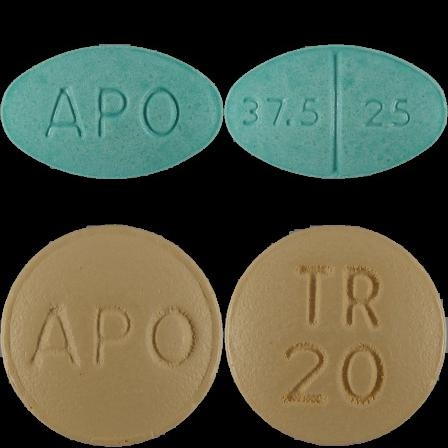42291-842: (0, 0, 224, 224)
